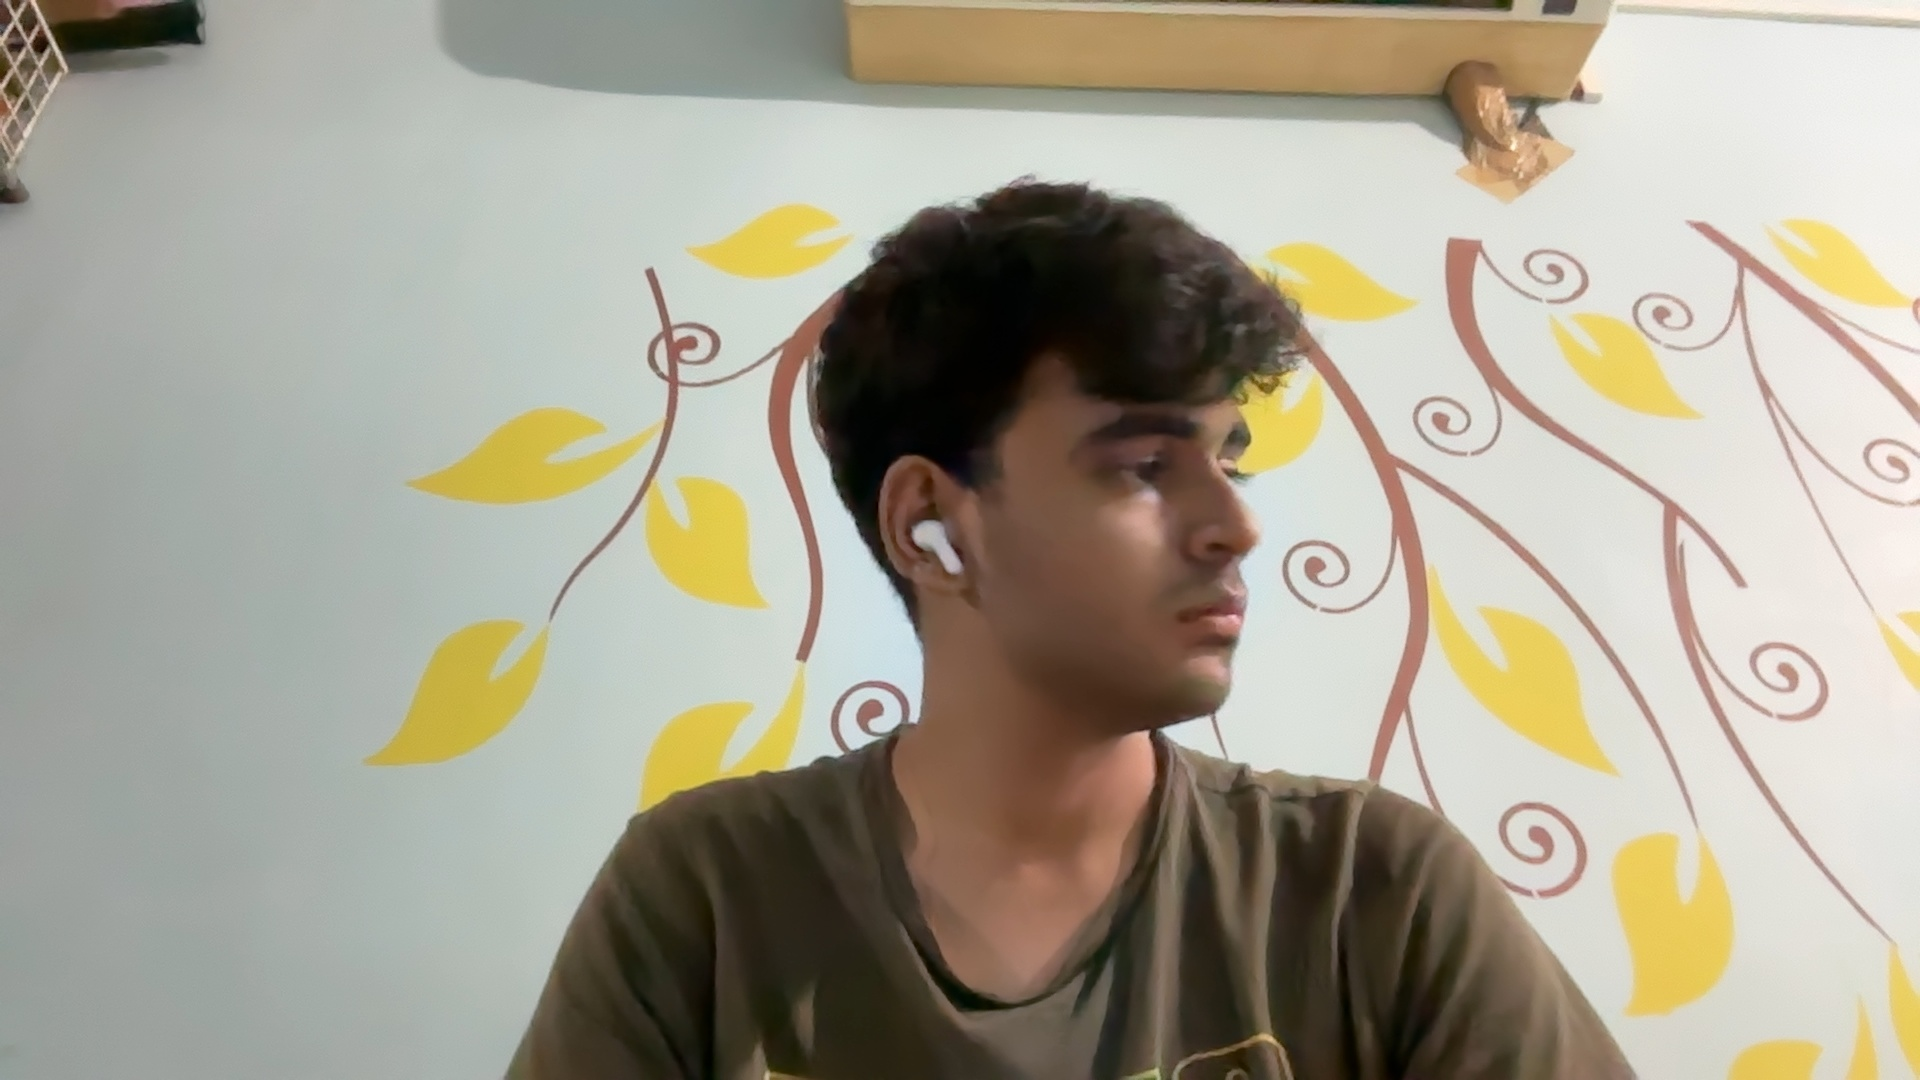No Mask: (968, 505, 1271, 731)
